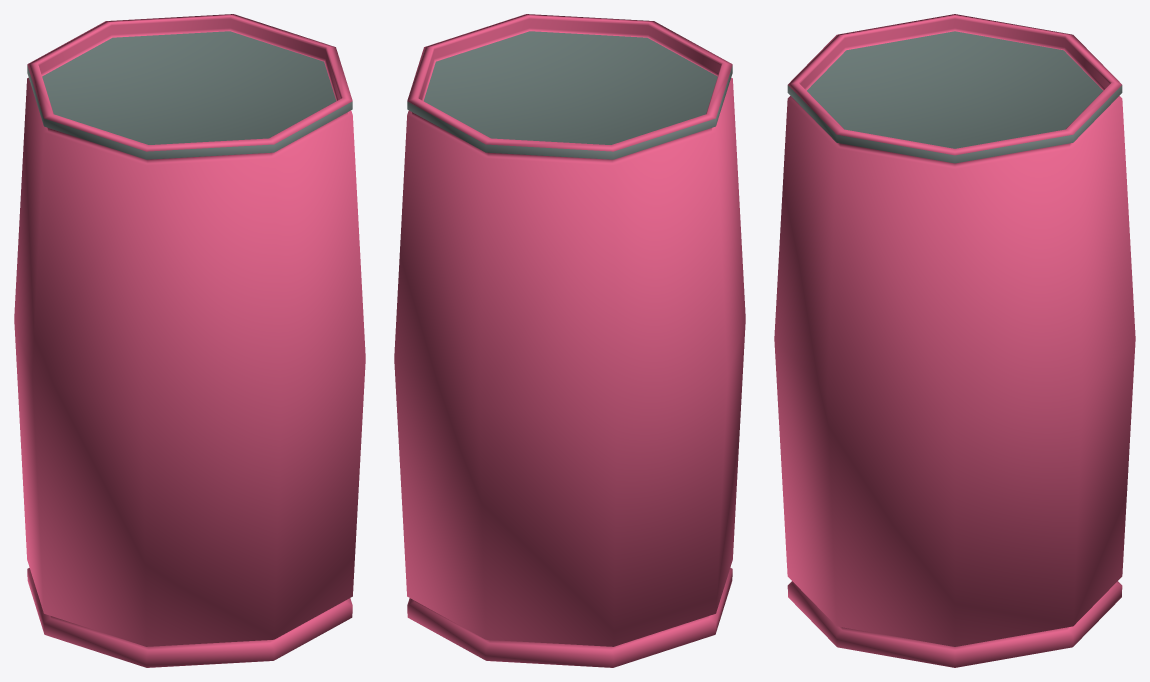
The model's file is SM_Drink.fbx.
The picture shows the model from 3 angles, left to right: view 1: azimuth 30°, elevation 25°; view 2: azimuth 150°, elevation 25°; view 3: azimuth 270°, elevation 25°; orthographic projection.
Visible parts, largest first — view 1: SM_Drink; view 2: SM_Drink; view 3: SM_Drink.
Part boxes in pixels (bbox=[...]): SM_Drink: bbox=[14, 14, 365, 667]; SM_Drink: bbox=[394, 14, 745, 667]; SM_Drink: bbox=[774, 14, 1135, 667].
Bounding box in the file's own units: 8.12 × 8.12 × 12.79.
1 material, 1 textured.
